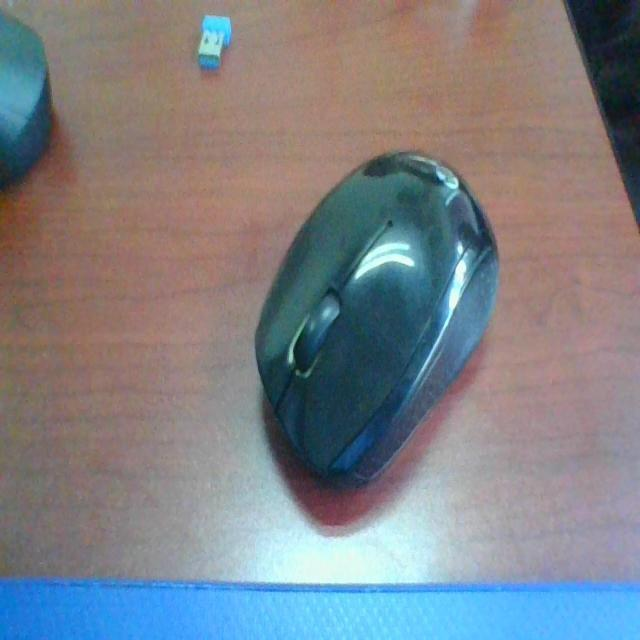Mouse: (253, 148, 556, 493)
